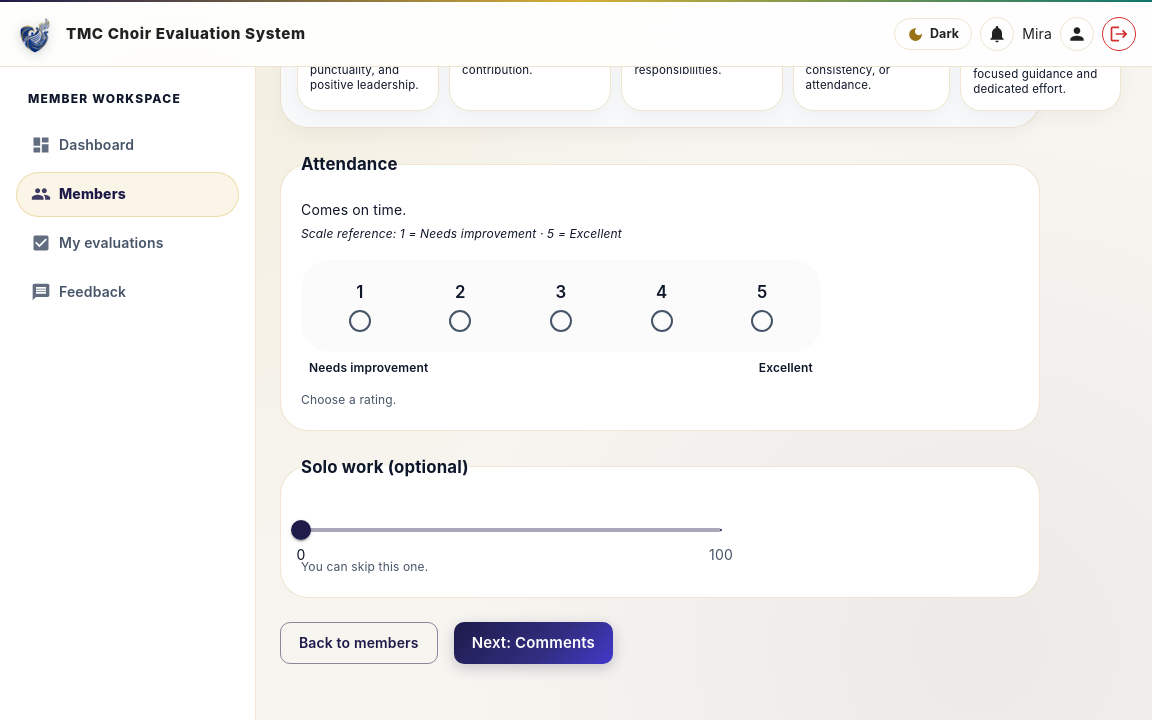
it: EvaluateMemberPage › validates required ratings on step 1 and required comment on step 2 before review
(page scrolled)
Click the button "Next: Comments" at (533, 643), box [454,622,613,664]
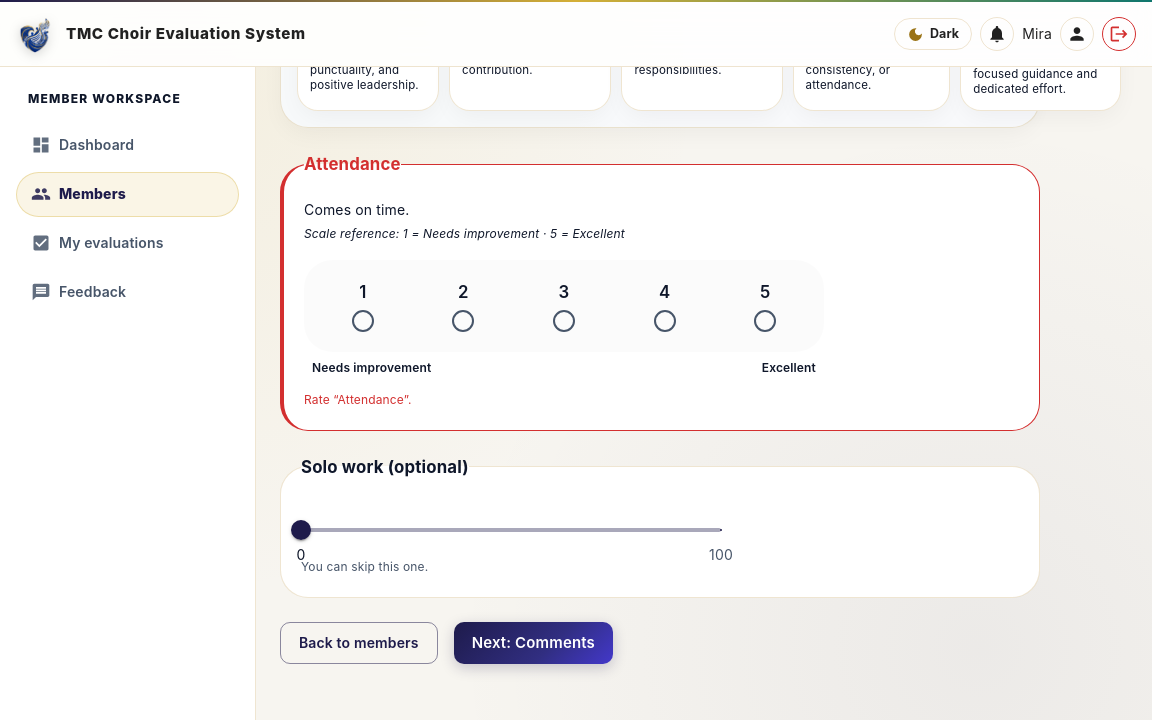
Expected: the text "Rate “Attendance”." is shown, [304,390,412,410]
Click the button "4" at (665, 306), box [618,272,711,340]
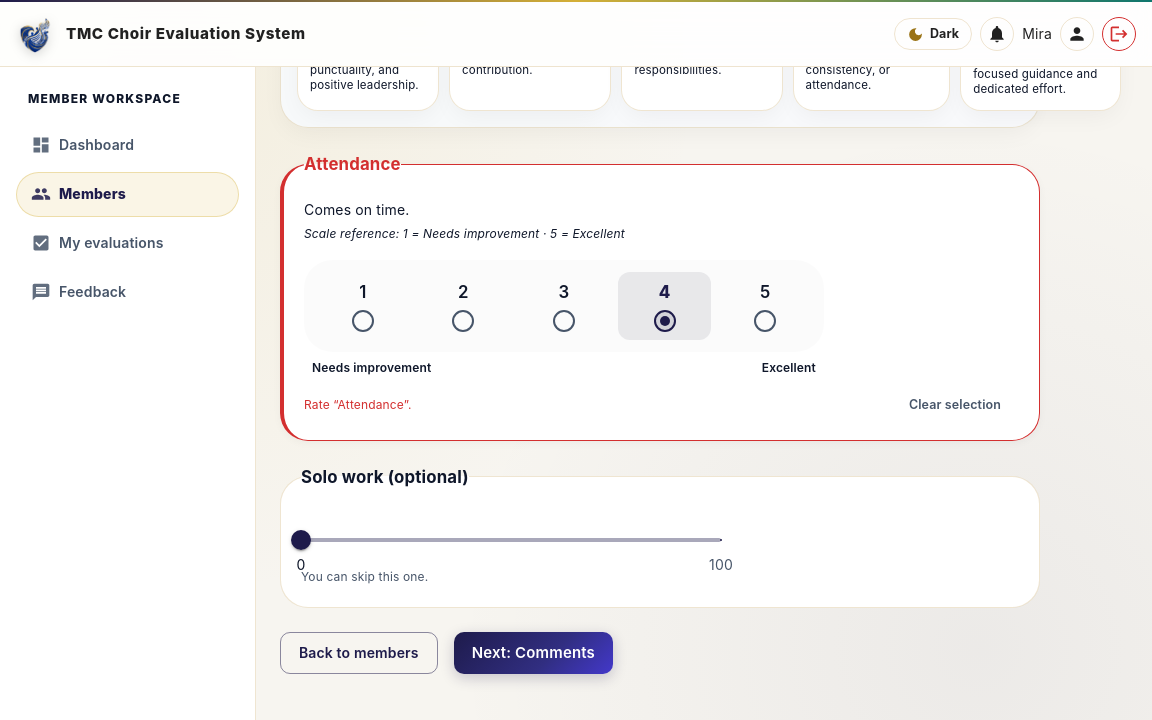
Click the button "Next: Comments" at (533, 653), box [454,632,613,674]
(page scrolled)
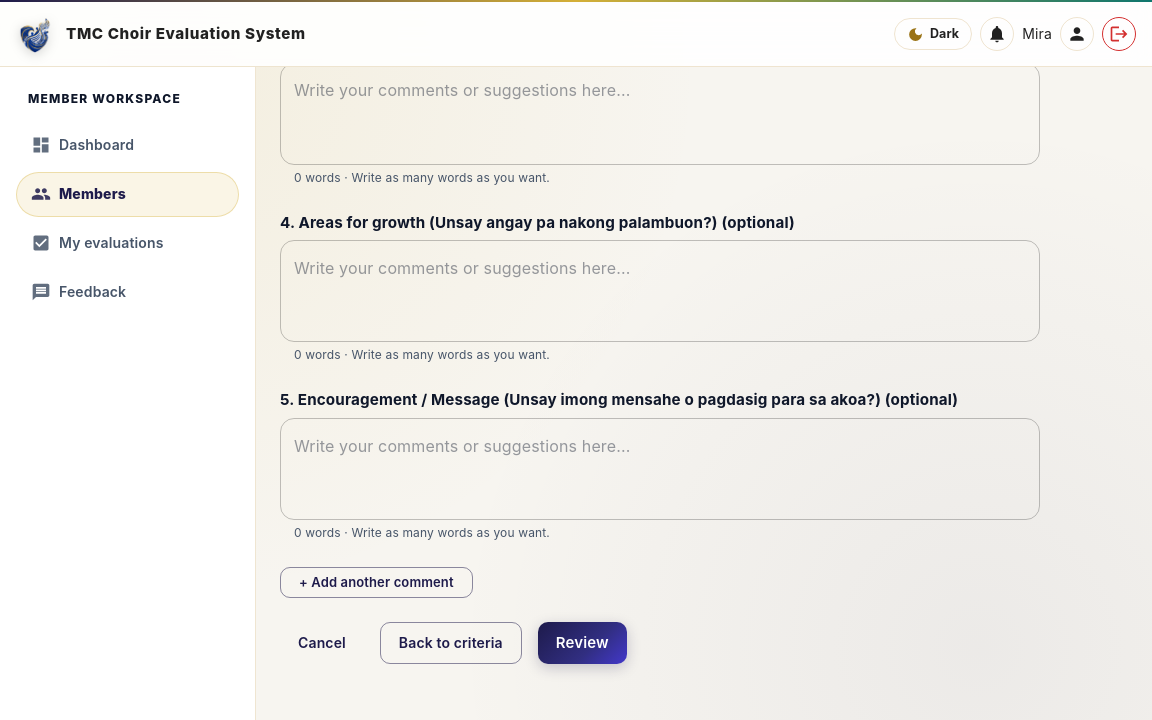
Click the button "Review" at (582, 643), box [538,622,627,664]
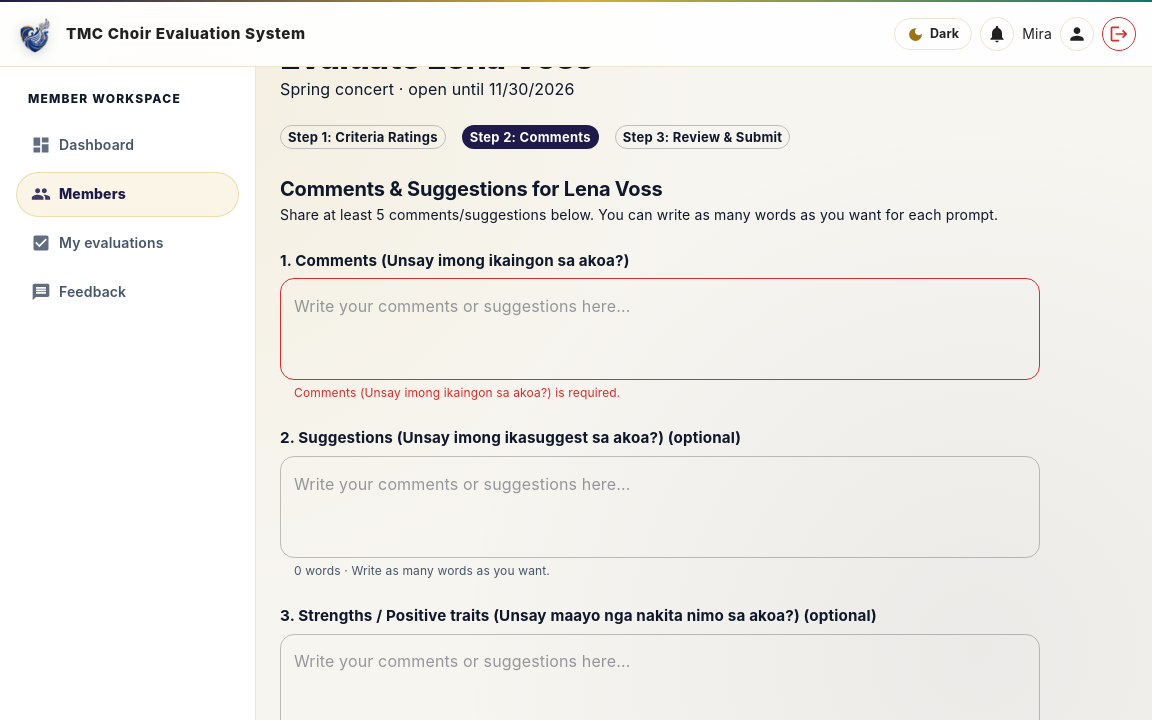
Expected: the text "Comments (Unsay imong ikaingon sa akoa?) is required." is shown, [294,385,620,400]
